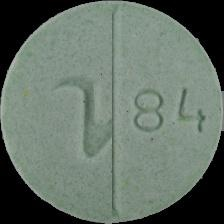66267-181: (0, 0, 224, 224)
